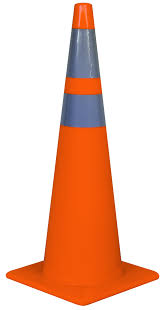cones: (6, 4, 162, 304)
